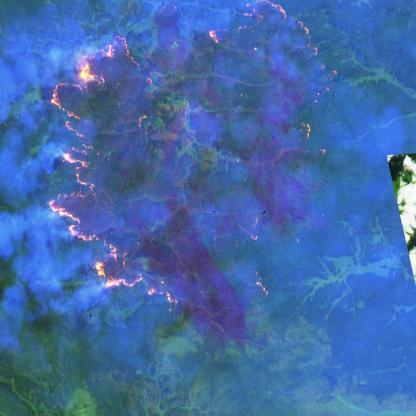fire: (43, 33, 176, 310), (202, 0, 323, 49)
